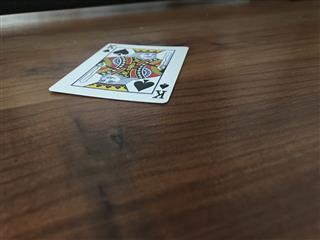KingOfSpades: (47, 41, 189, 103)
